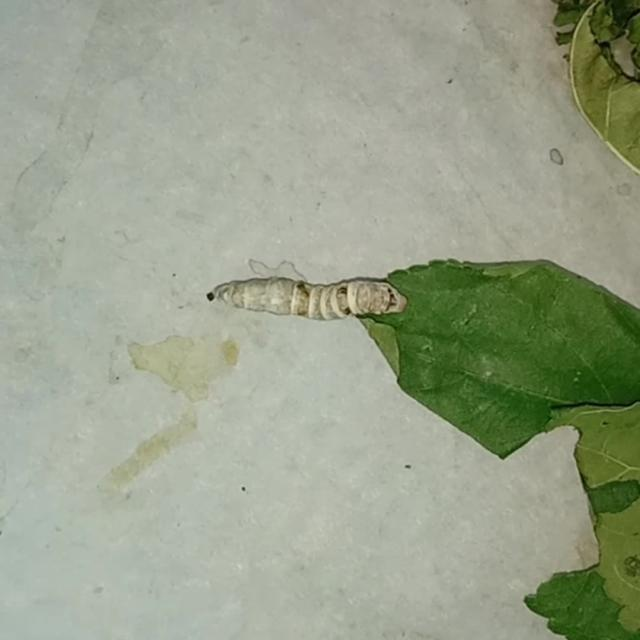Grasserie: (187, 246, 412, 372)
